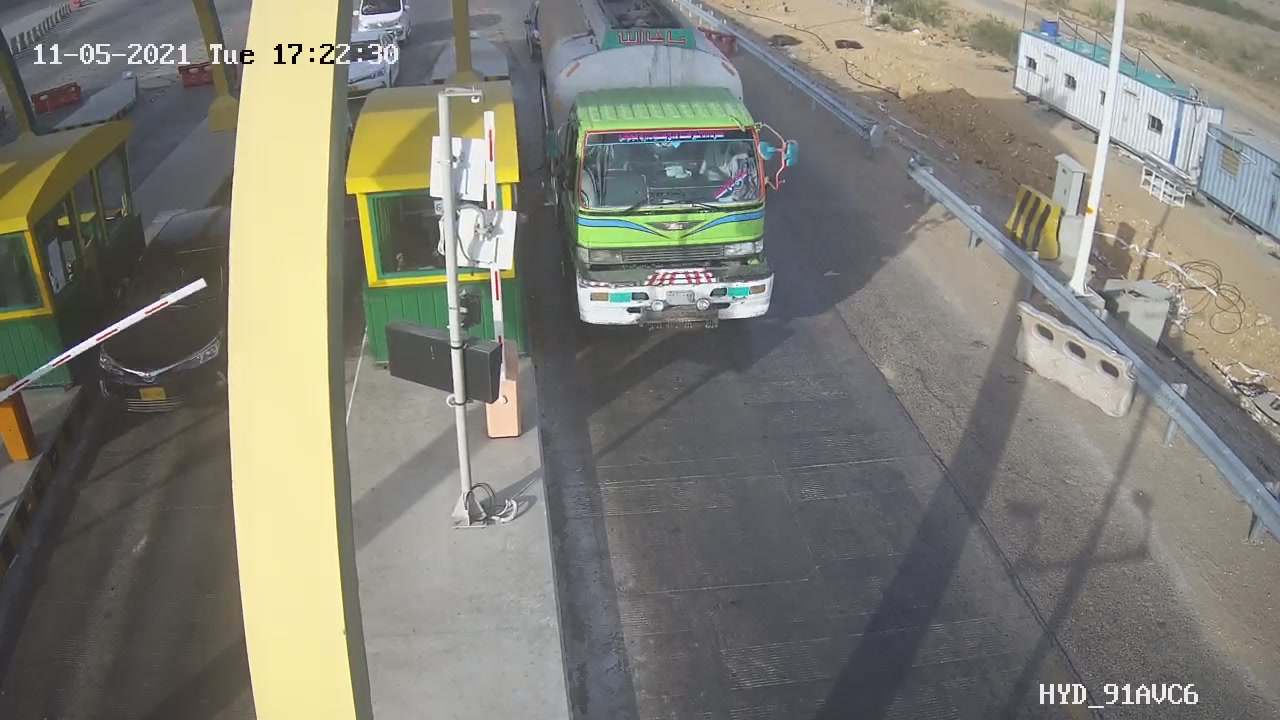F6: (521, 3, 821, 357)
